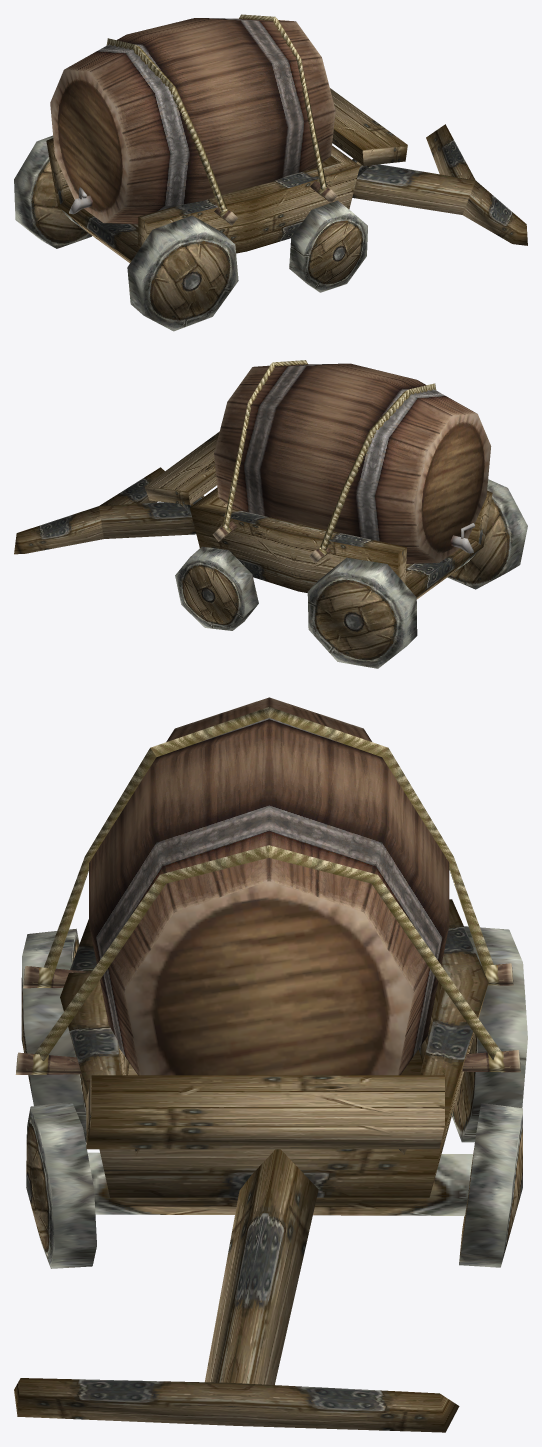
Rendered from excavationwaterwagon.glb.
3 renders of one model, top to bottom at view 1: azimuth 30°, elevation 25°; view 2: azimuth 150°, elevation 25°; view 3: azimuth 270°, elevation 25°, orthographic. The views are drawn at different scales.
Size of the model in its own units: 7.41 by 3.98 by 4.25.
5 materials, 5 textured.
